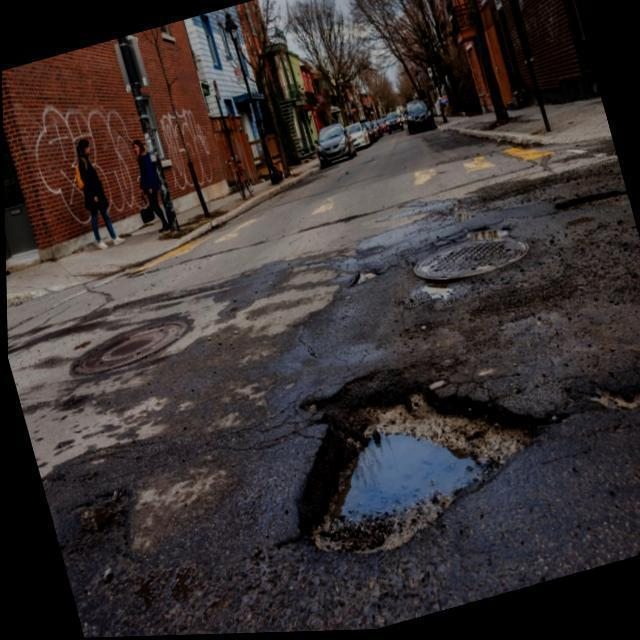Pothole: (301, 370, 532, 552)
